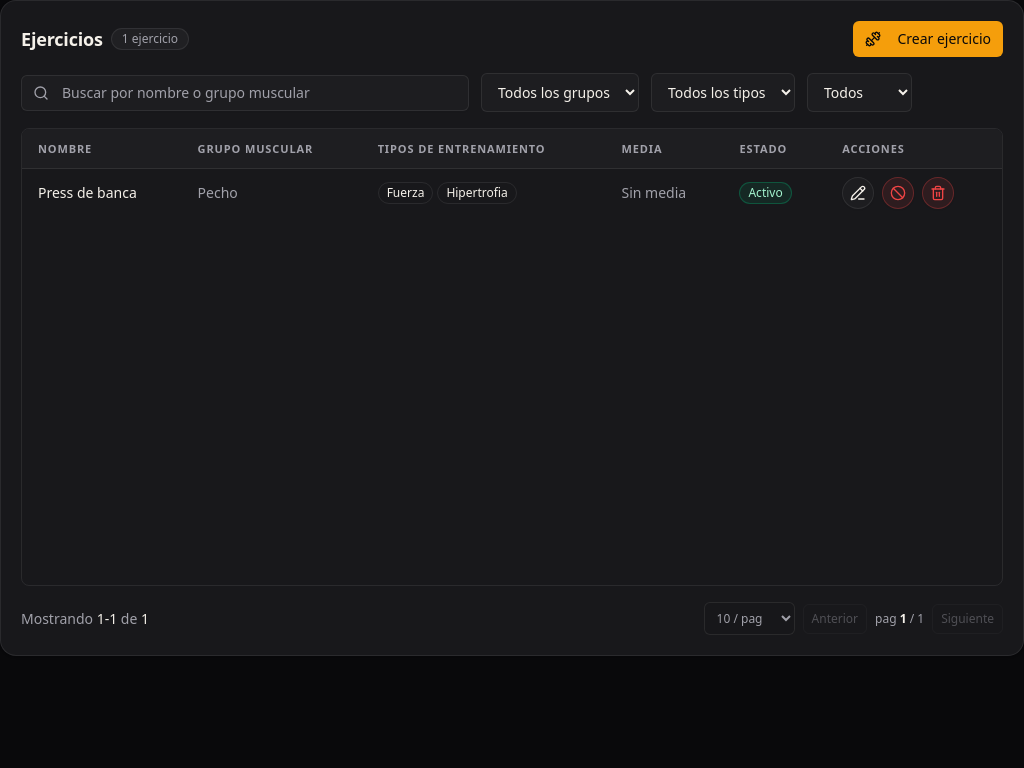
Test case: vista de Ejercicios › mantiene el mensaje de sin resultados y no ofrece crear cuando el filtro de grupo no matchea
The width and height of the screenshot is (1024, 768).
Expected: the text "Press de banca" is shown, [22, 169, 182, 217]
Select "Espalda" in the dropdown named "Filtrar por grupo muscular" at (560, 92), box [481, 73, 639, 112]
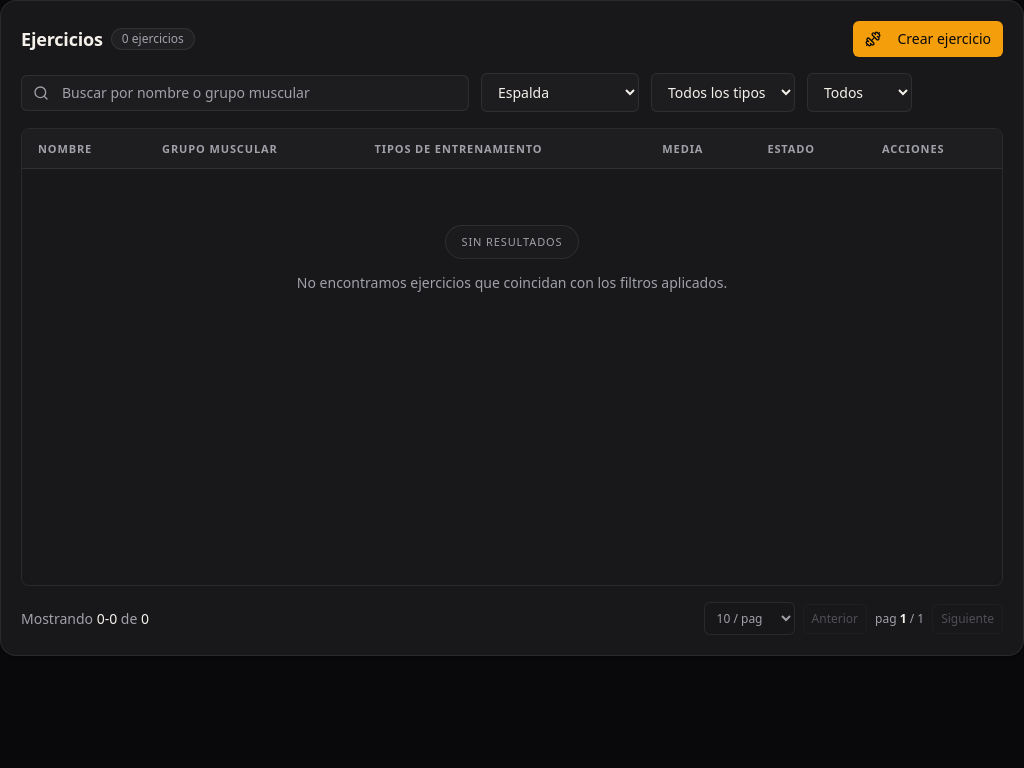
Expected: the number of buttons "Crear ejercicio" is 1, [853, 21, 1003, 57]
Result: the text "Sin resultados" is shown at [444, 225, 579, 259]
